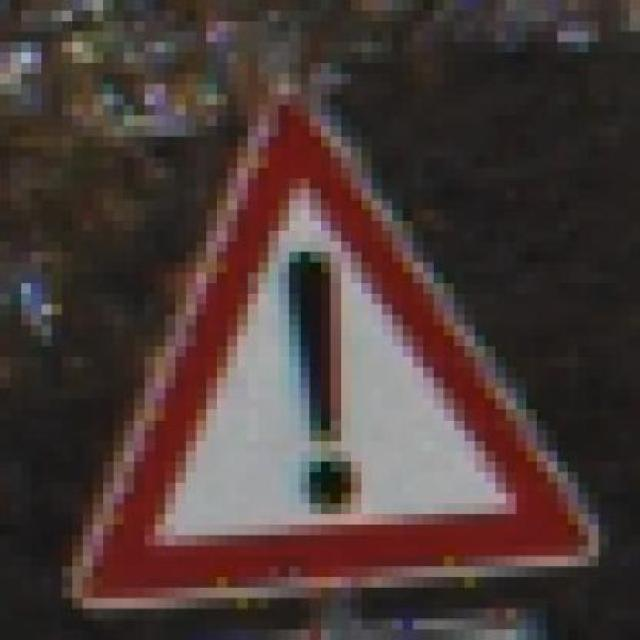Attention Please-: (51, 63, 609, 599)
